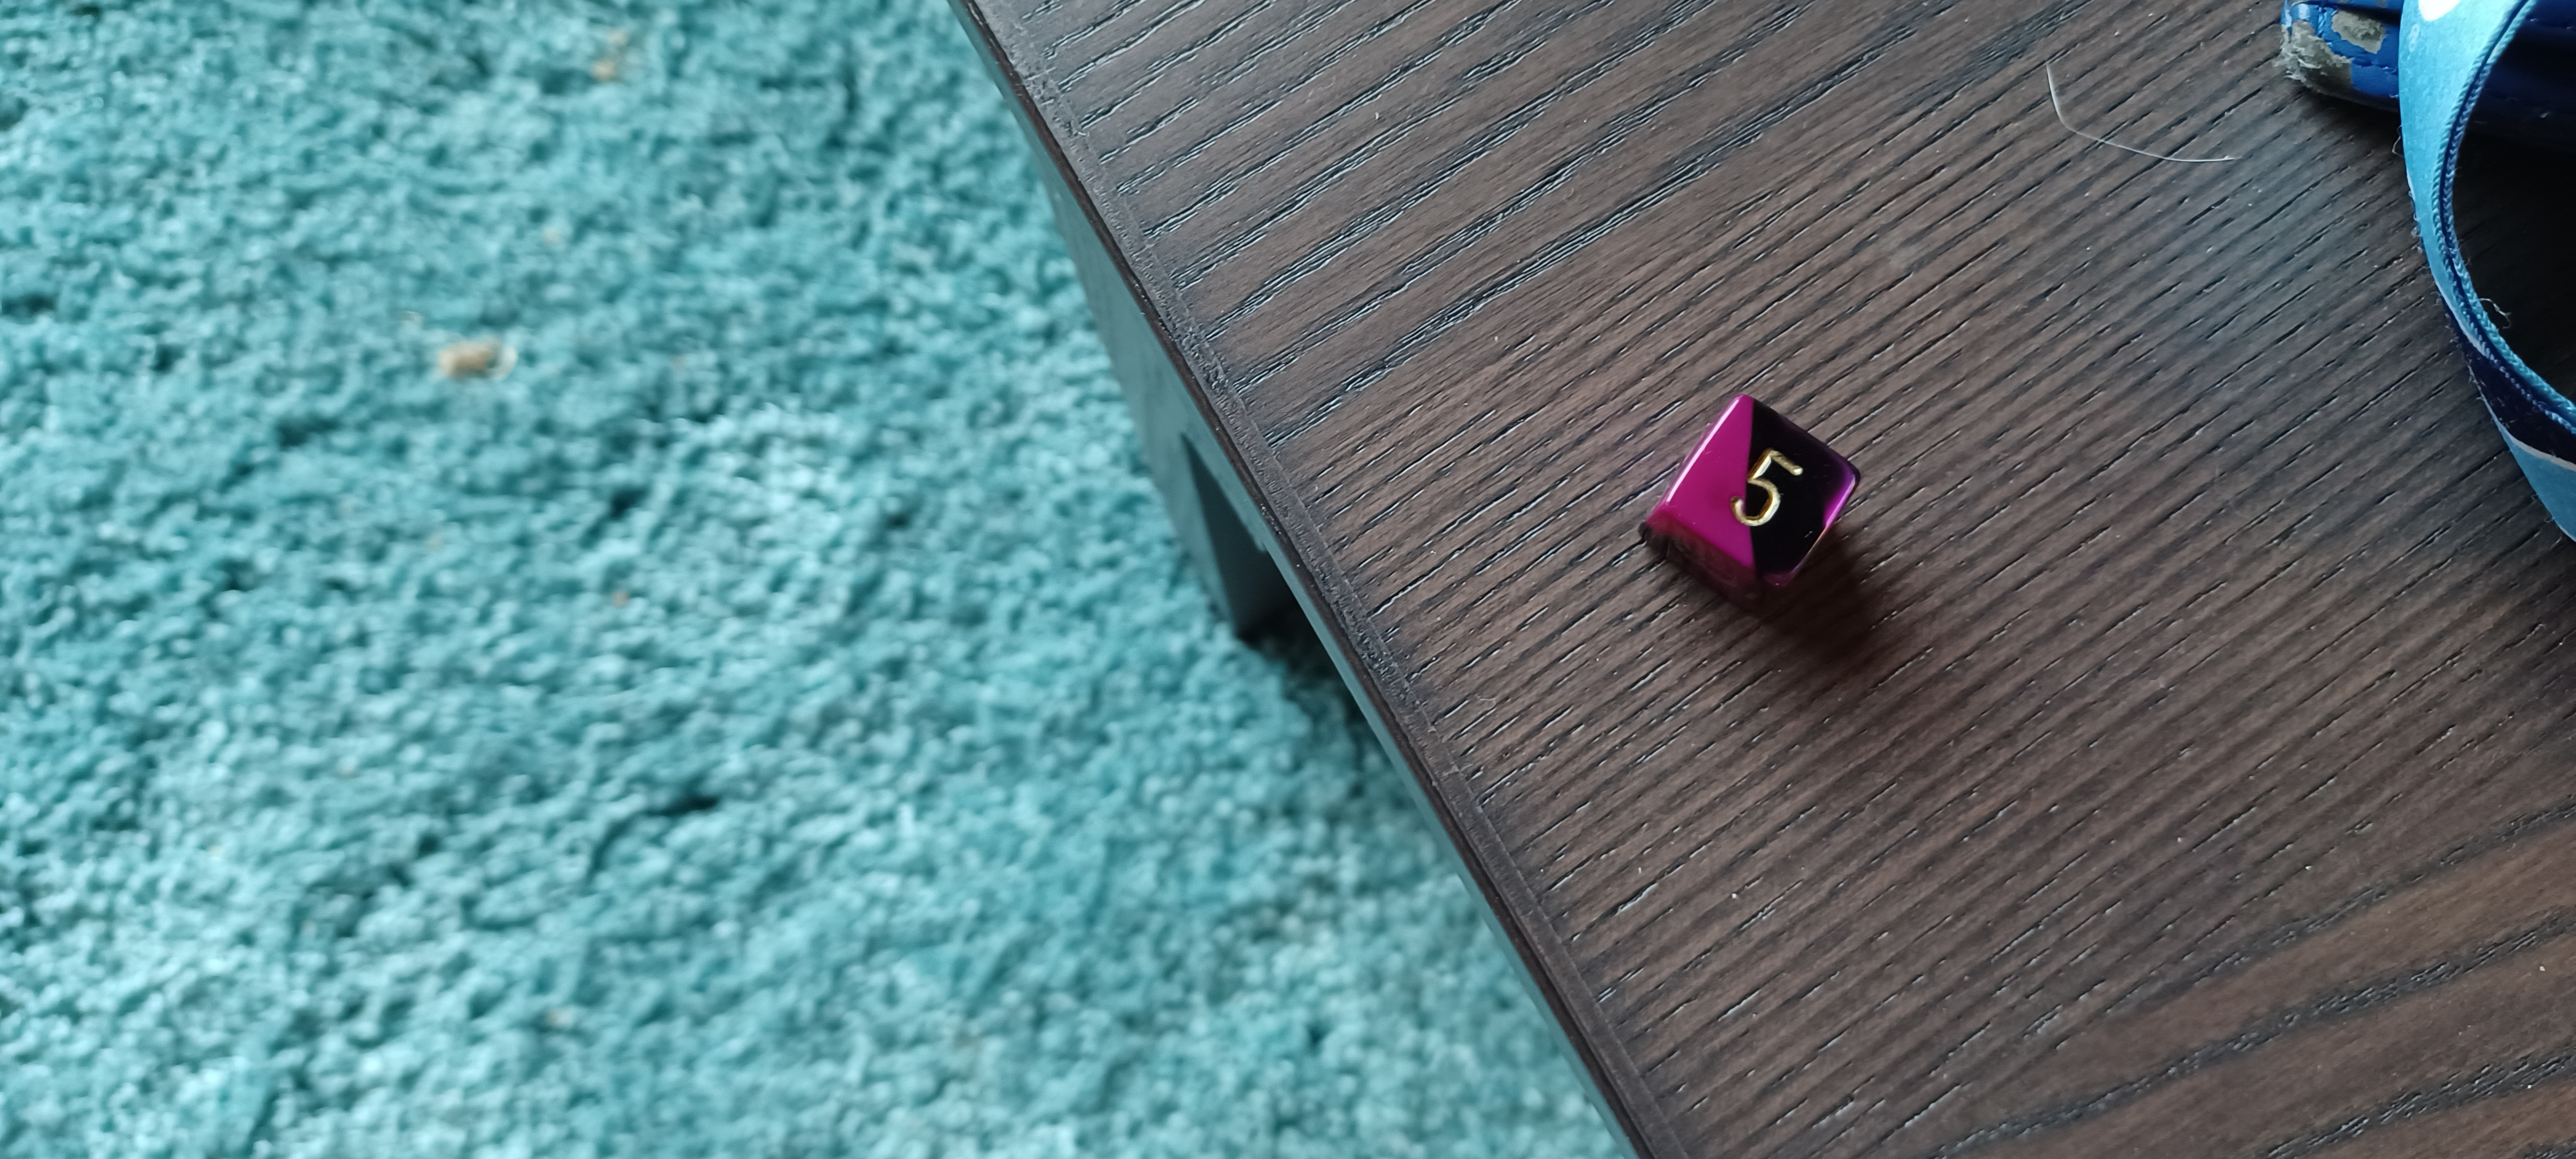five: (1610, 358, 1902, 642)
